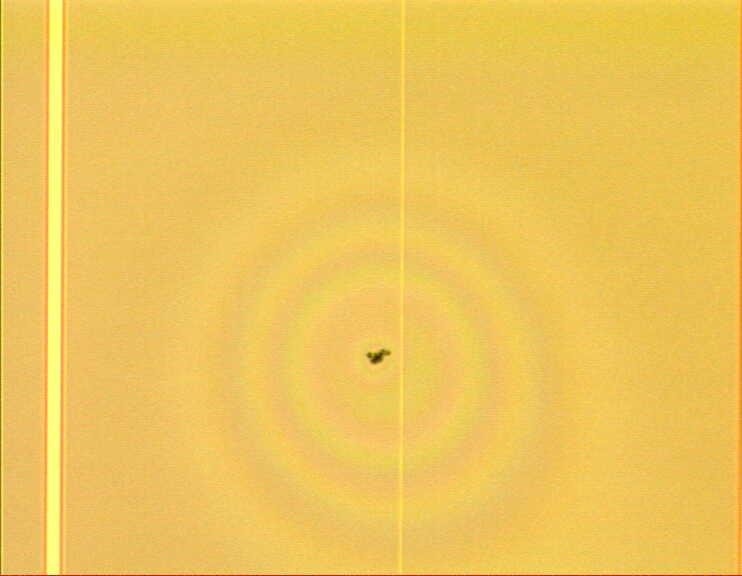PIQ PARTICLE: (358, 336, 398, 376)
